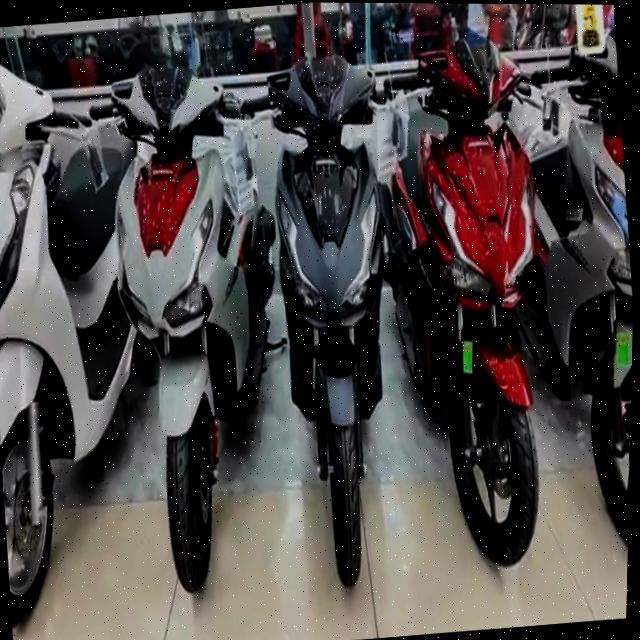motorcycle: (358, 15, 612, 578), (66, 48, 289, 604), (232, 37, 443, 593), (0, 35, 160, 626), (508, 30, 639, 575)
